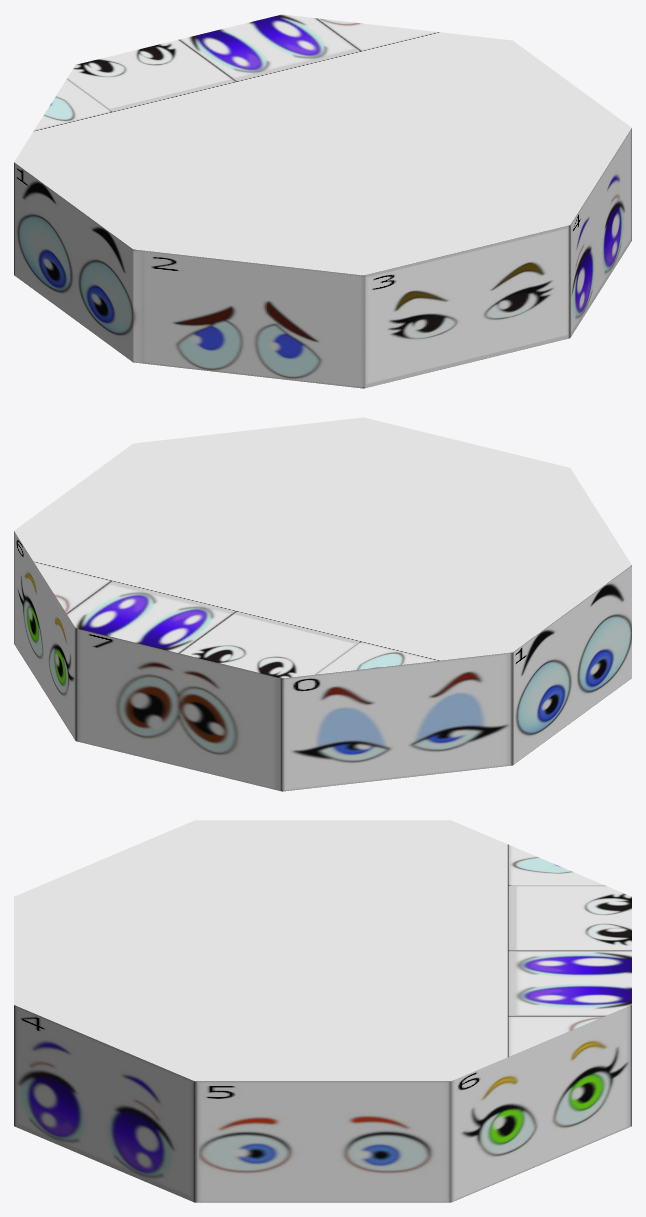
The model's file is eyes_rotor.gltf.
The picture shows the model from 3 angles, top to bottom: view 1: azimuth 30°, elevation 25°; view 2: azimuth 150°, elevation 25°; view 3: azimuth 270°, elevation 25°; orthographic projection. The views are drawn at different scales.
Visible parts, largest first — view 1: rotor.007; view 2: rotor.007; view 3: rotor.007.
Boxes of the visible parts, x1=… form: rotor.007: x1=14, y1=14, x2=631, y2=388; rotor.007: x1=14, y1=417, x2=631, y2=791; rotor.007: x1=14, y1=820, x2=631, y2=1202.
Bounding box in the file's own units: 1.85 × 0.4 × 1.85.
1 material, 1 textured.
